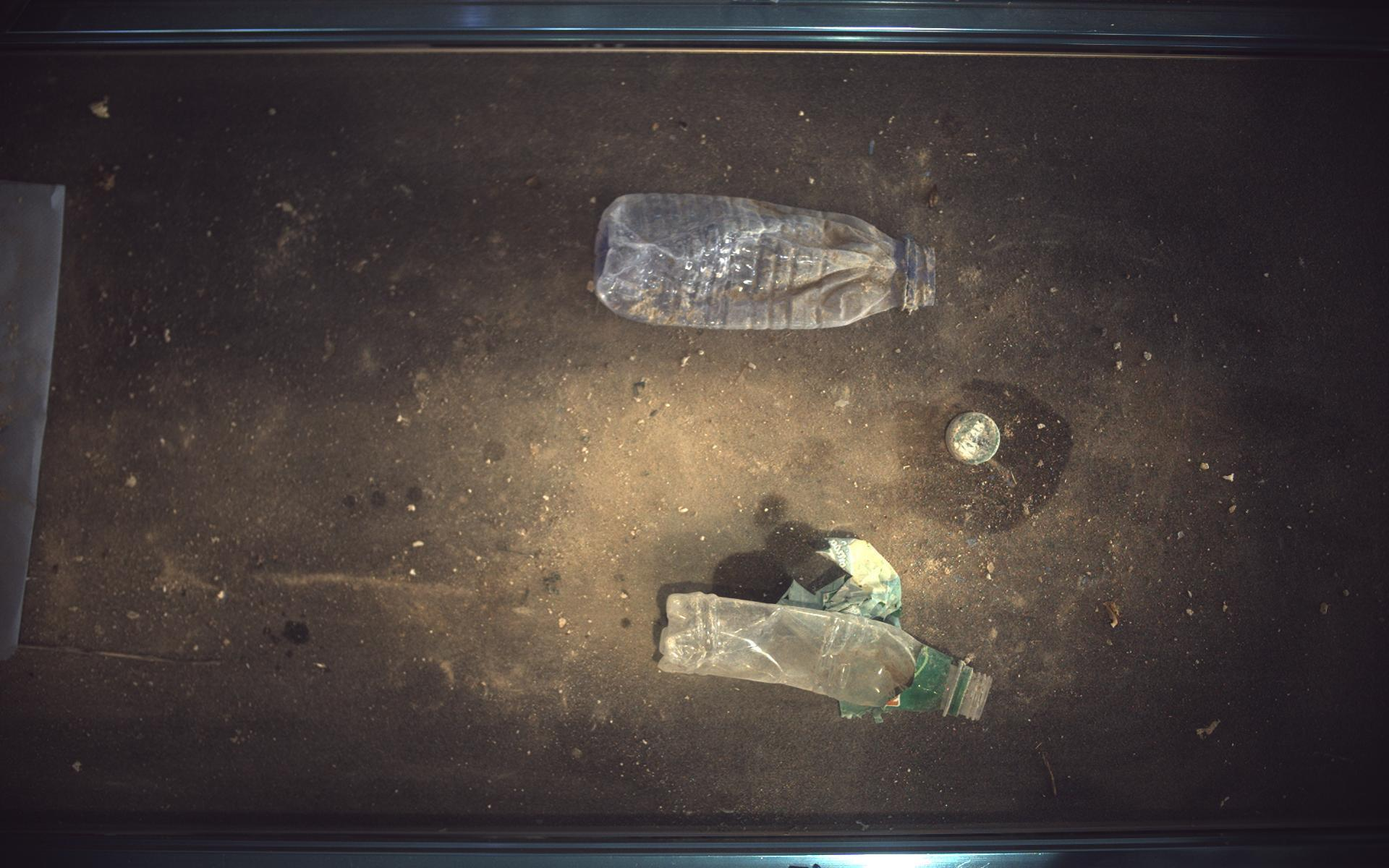general_w: (660, 540, 994, 722), (595, 193, 938, 330), (948, 413, 1003, 465)
